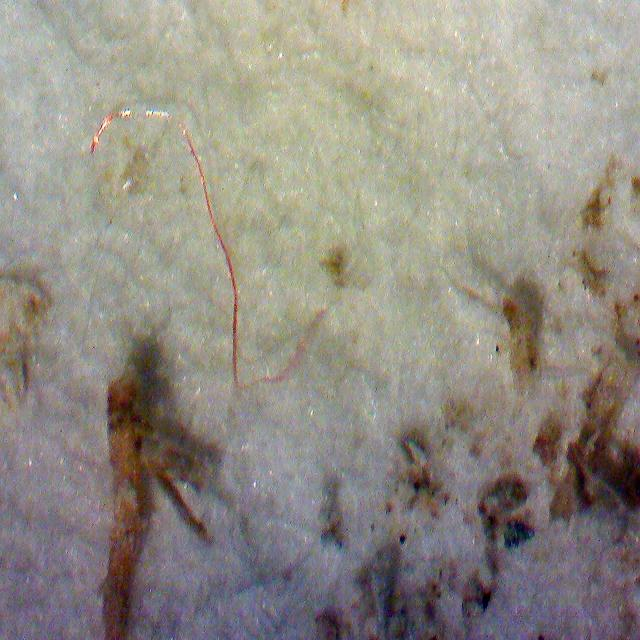microplastic: (92, 110, 326, 389)
